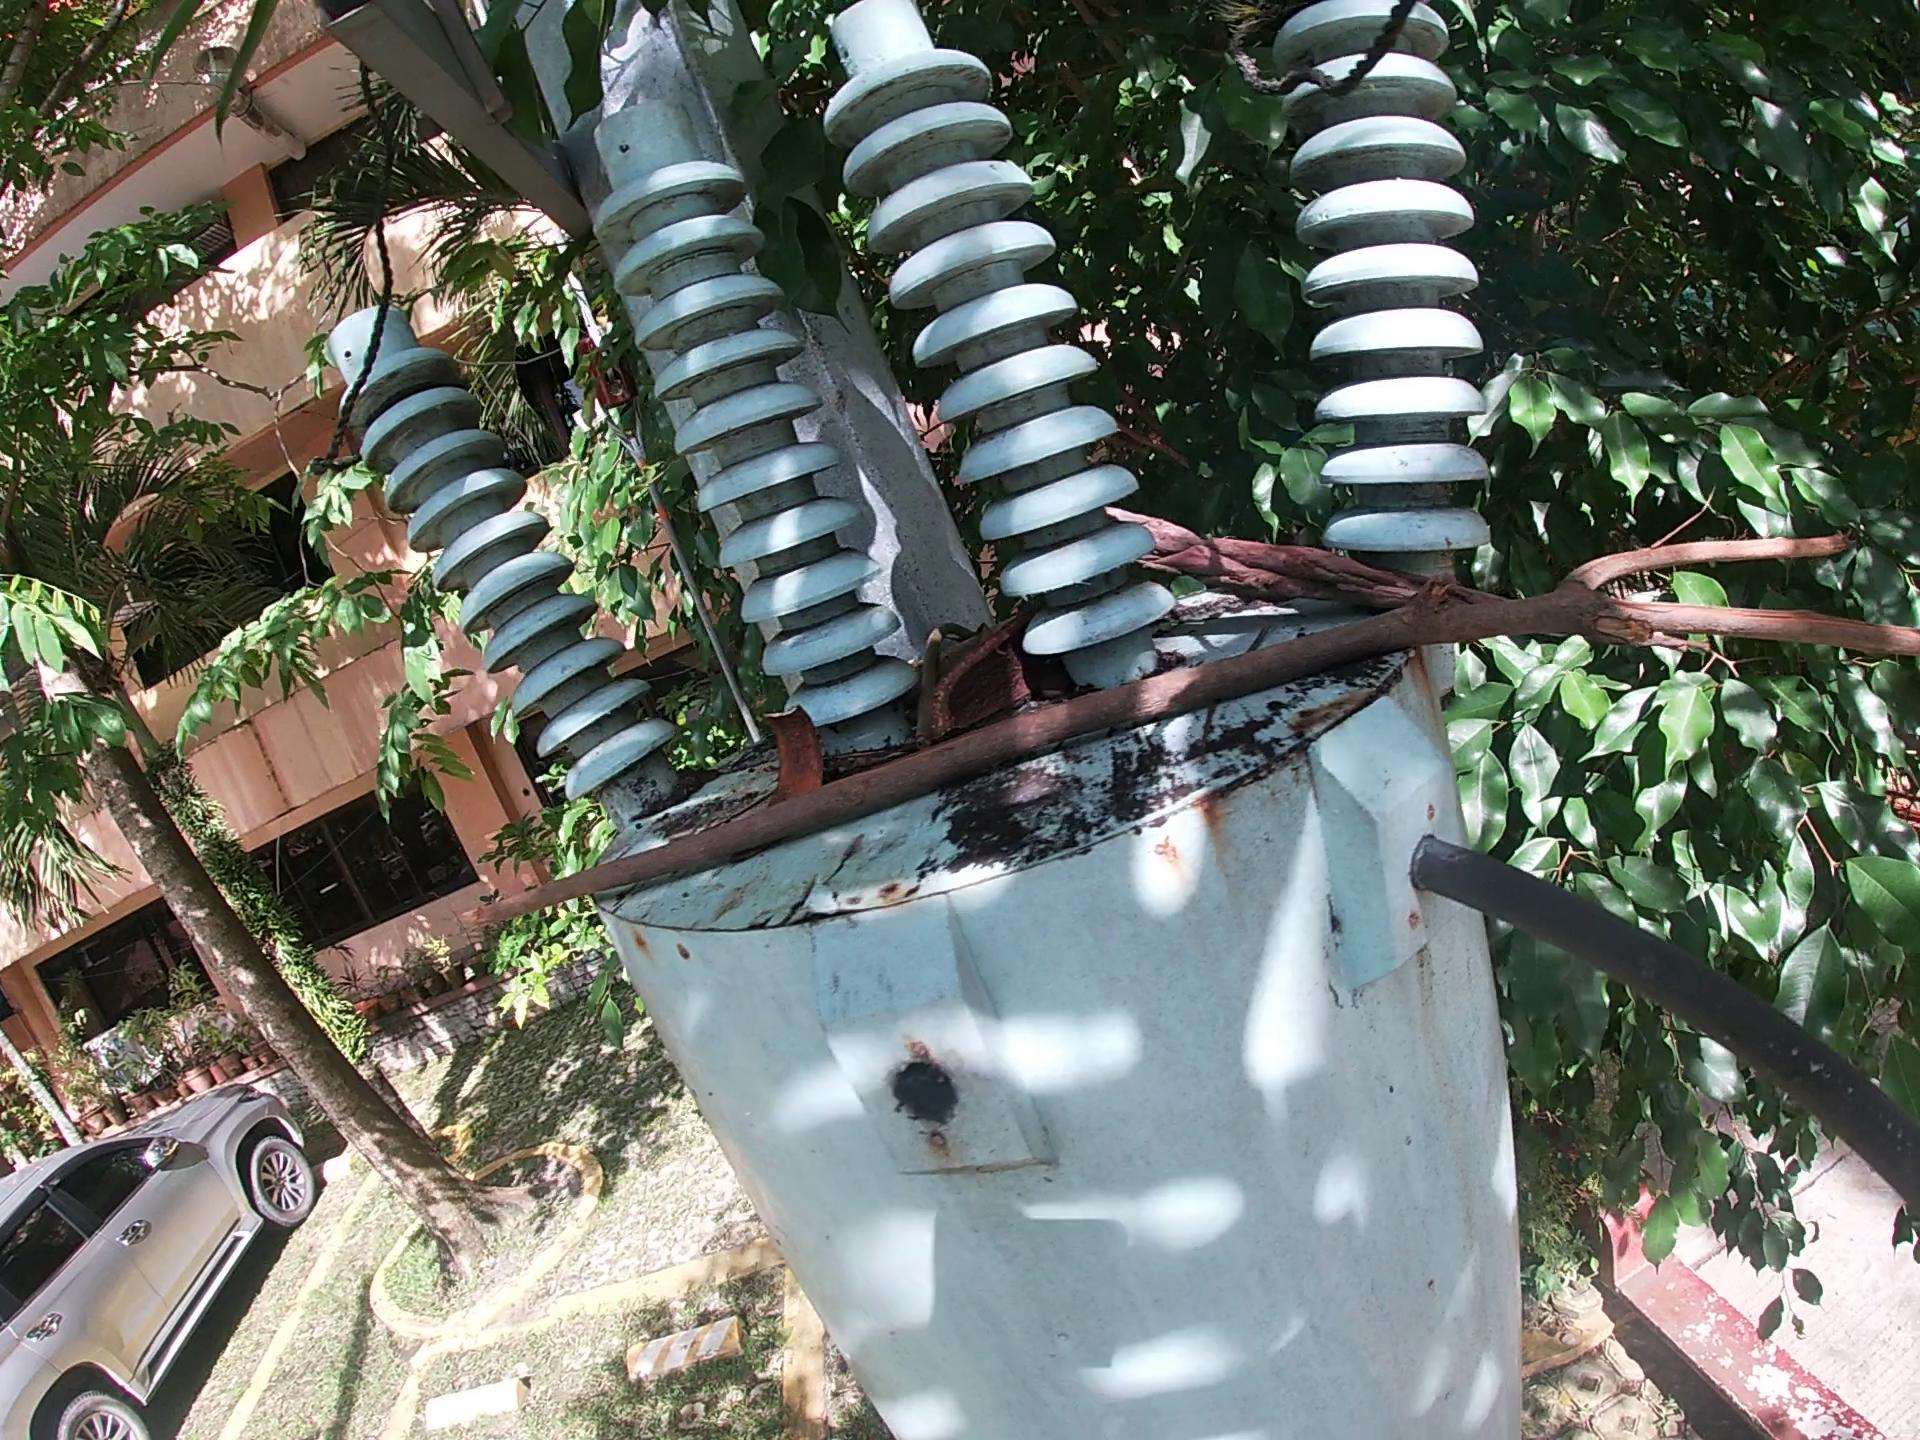mahogany fruit: (922, 607, 1054, 744), (754, 696, 835, 815)
tree branch: (454, 523, 1920, 939), (1098, 502, 1692, 652)
